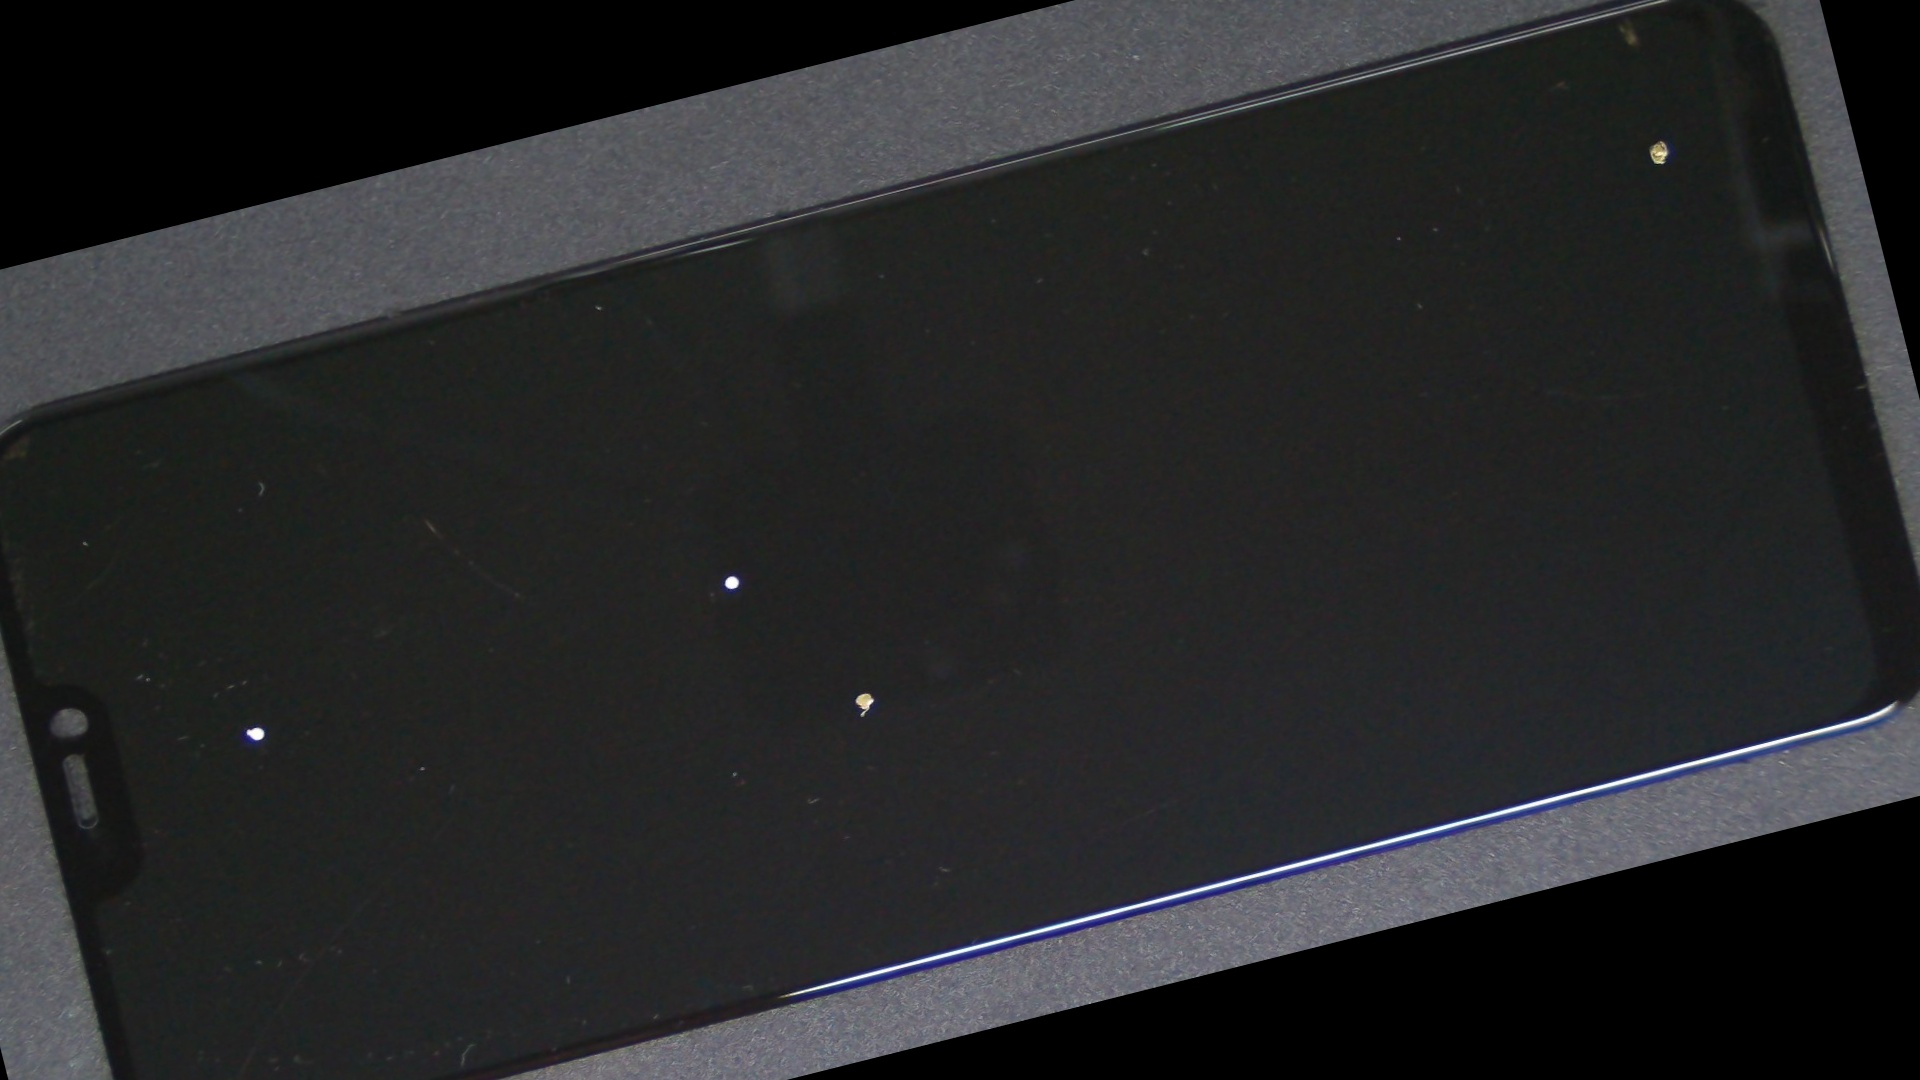oil: (340, 280, 1386, 1080), (273, 245, 1184, 905), (738, 0, 1876, 497), (33, 444, 460, 1013)
